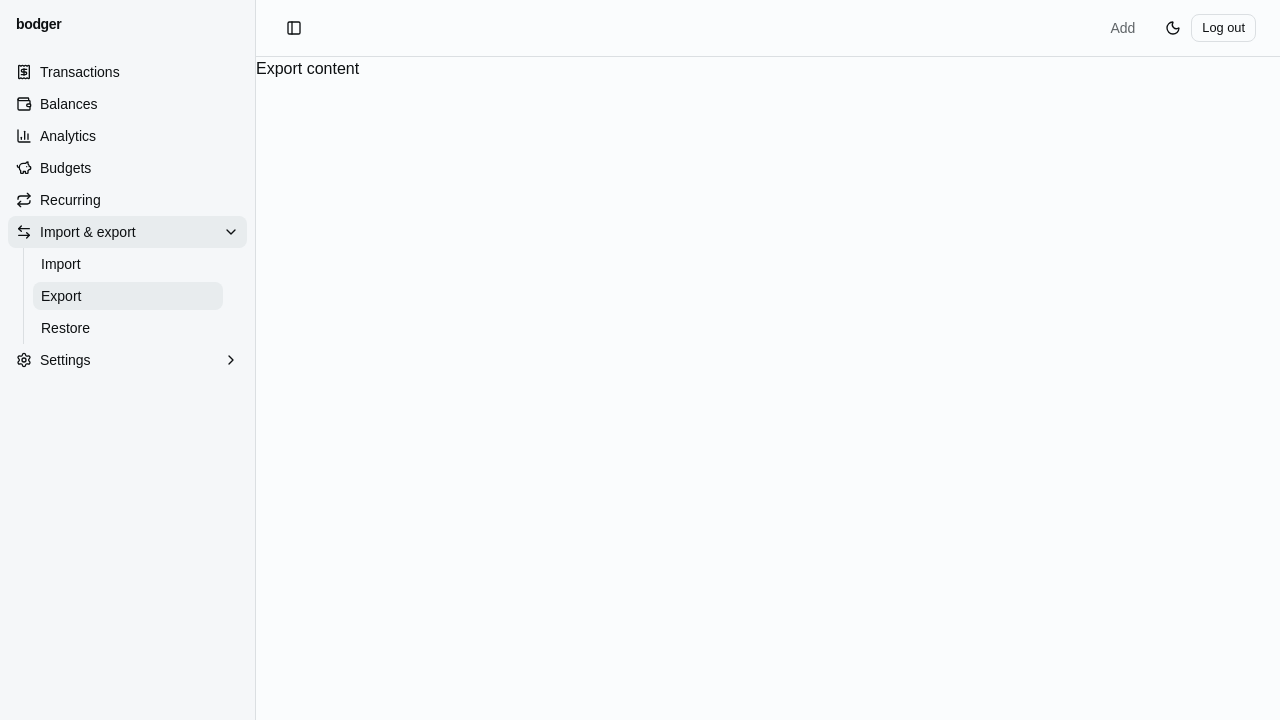
Test case: AppLayout › Import & export sidebar submenu › navigates when a section link is clicked
Click the link "Import" at point(61, 264), box [41,256,81,272]
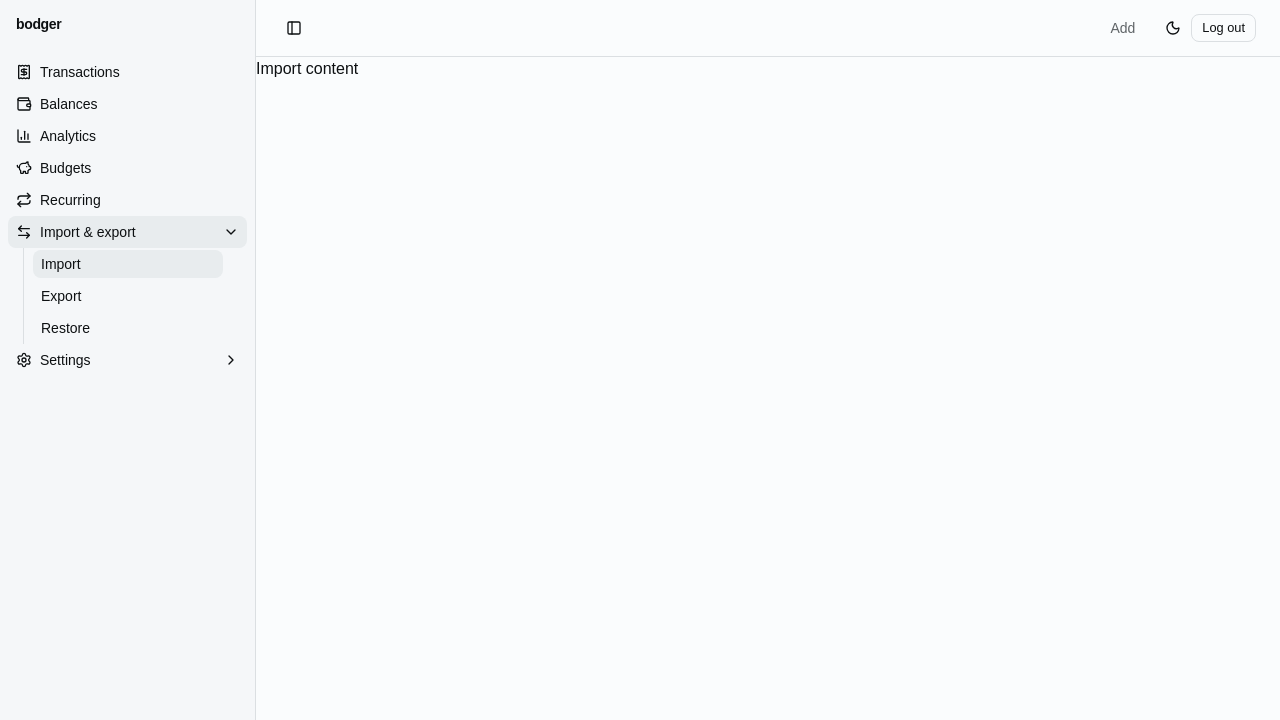
Expected: the text "Import content" is shown, [256,60,358,77]
